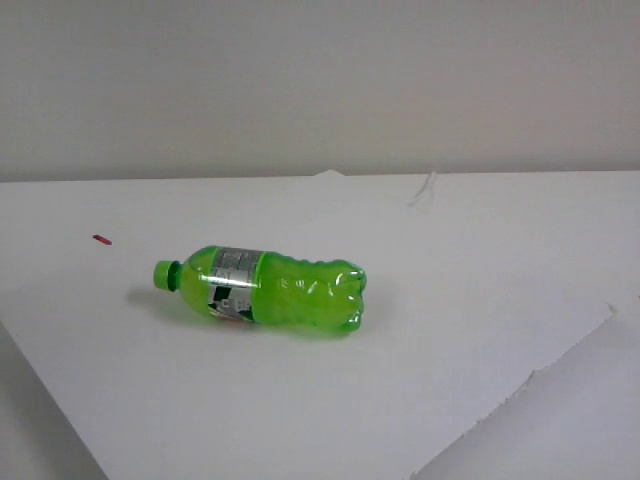botolplastik: (155, 245, 368, 334)
